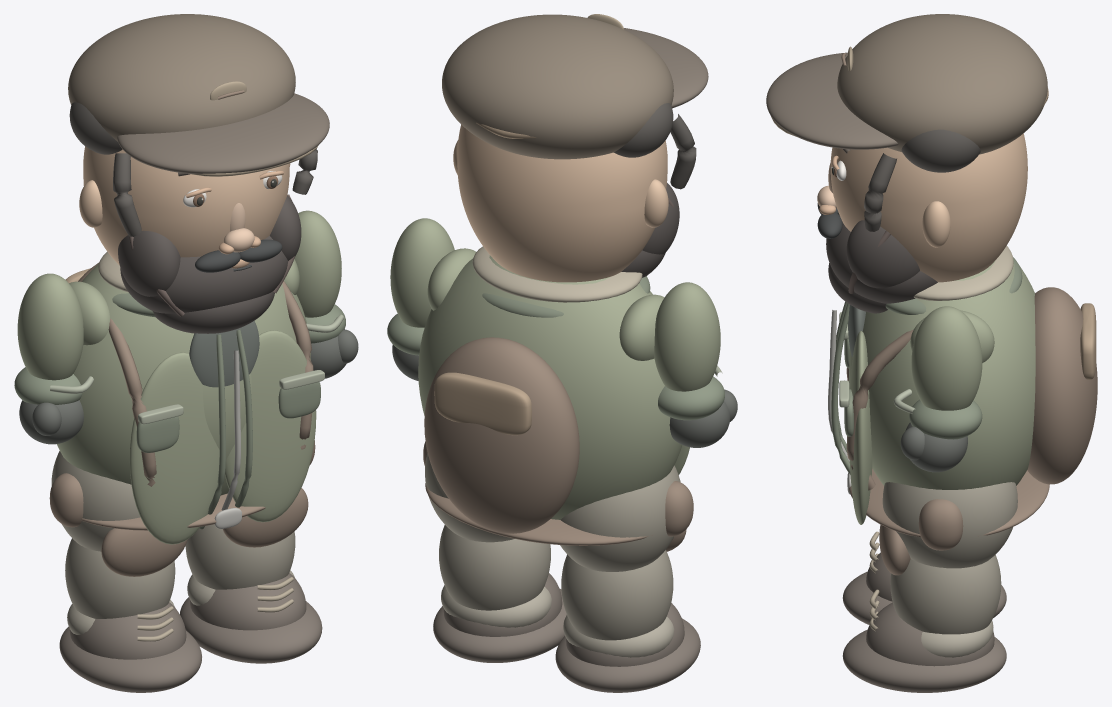
File: afterday_bearded_survivor_v191_BEFORE.glb
3 renders of one model, left to right at view 1: azimuth 30°, elevation 25°; view 2: azimuth 150°, elevation 25°; view 3: azimuth 270°, elevation 25°, orthographic. The views are drawn at different scales.
Visible parts, largest first — view 1: cap sculpted crown_087, heavy rounded coat body_000, sculpted adult head_054, subtle coat front panel_003, rounded baseball visor_088, subtle coat front panel_009, slim work sleeve_024, soft wrinkled trouser shin_035, natural restrained jaw beard_073, soft wrinkled trouser shin_045, weathered thick sole_037, weathered thick sole_047 (+38 smaller); view 2: cap sculpted crown_087, heavy rounded coat body_000, sculpted adult head_054, compact rucksack_020, soft wrinkled trouser shin_035, soft wrinkled trouser shin_045, padded short trouser thigh_034, slim work sleeve_024, rucksack low profile flap_021, slim work sleeve_029, weathered thick sole_037, weathered thick sole_047 (+21 smaller); view 3: cap sculpted crown_087, heavy rounded coat body_000, sculpted adult head_054, compact rucksack_020, padded short trouser thigh_044, soft wrinkled trouser shin_045, rounded baseball visor_088, slim work sleeve_029, weathered thick sole_047, blended beard side_078, round boot upper_048, subtle coat front panel_009 (+23 smaller).
Part boxes in pixels (left/top/right/bottom): cap sculpted crown_087: left=68, top=14, right=295, bottom=141; heavy rounded coat body_000: left=57, top=263, right=310, bottom=495; sculpted adult head_054: left=83, top=146, right=289, bottom=264; subtle coat front panel_003: left=129, top=352, right=219, bottom=544; rounded baseball visor_088: left=117, top=93, right=329, bottom=173; subtle coat front panel_009: left=225, top=330, right=316, bottom=522; slim work sleeve_024: left=17, top=273, right=83, bottom=380; soft wrinkled trouser shin_035: left=65, top=538, right=175, bottom=618; natural restrained jaw beard_073: left=120, top=236, right=288, bottom=313; soft wrinkled trouser shin_045: left=185, top=524, right=295, bottom=589; weathered thick sole_037: left=59, top=626, right=201, bottom=692; weathered thick sole_047: left=180, top=597, right=322, bottom=663; cap sculpted crown_087: left=442, top=14, right=673, bottom=159; heavy rounded coat body_000: left=418, top=255, right=682, bottom=519; sculpted adult head_054: left=457, top=124, right=667, bottom=282; compact rucksack_020: left=424, top=337, right=579, bottom=533; soft wrinkled trouser shin_035: left=561, top=550, right=673, bottom=640; soft wrinkled trouser shin_045: left=439, top=525, right=550, bottom=610; padded short trouser thigh_034: left=560, top=465, right=680, bottom=571; slim work sleeve_024: left=654, top=282, right=720, bottom=391; rucksack low profile flap_021: left=434, top=372, right=531, bottom=435; slim work sleeve_029: left=390, top=218, right=454, bottom=327; weathered thick sole_037: left=555, top=618, right=700, bottom=692; weathered thick sole_047: left=433, top=589, right=566, bottom=662; cap sculpted crown_087: left=837, top=14, right=1047, bottom=154; heavy rounded coat body_000: left=849, top=260, right=1035, bottom=489; sculpted adult head_054: left=830, top=133, right=1027, bottom=282; compact rucksack_020: left=1027, top=287, right=1097, bottom=484; padded short trouser thigh_044: left=882, top=482, right=1017, bottom=568; soft wrinkled trouser shin_045: left=890, top=555, right=1001, bottom=634; rounded baseball visor_088: left=766, top=52, right=898, bottom=149; slim work sleeve_029: left=911, top=306, right=982, bottom=410; weathered thick sole_047: left=842, top=629, right=1006, bottom=692; blended beard side_078: left=846, top=220, right=919, bottom=288; round boot upper_048: left=866, top=602, right=994, bottom=666; subtle coat front panel_009: left=849, top=331, right=872, bottom=524.
Bounding box in the file's own units: 1.67 × 3.08 × 1.5.
